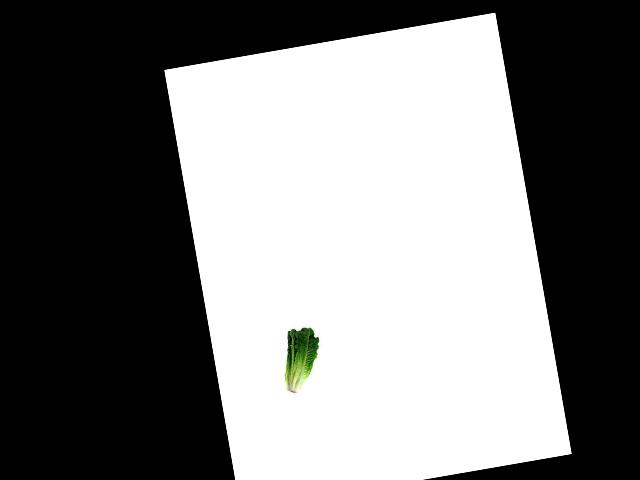lettuce: (274, 323, 326, 398)
